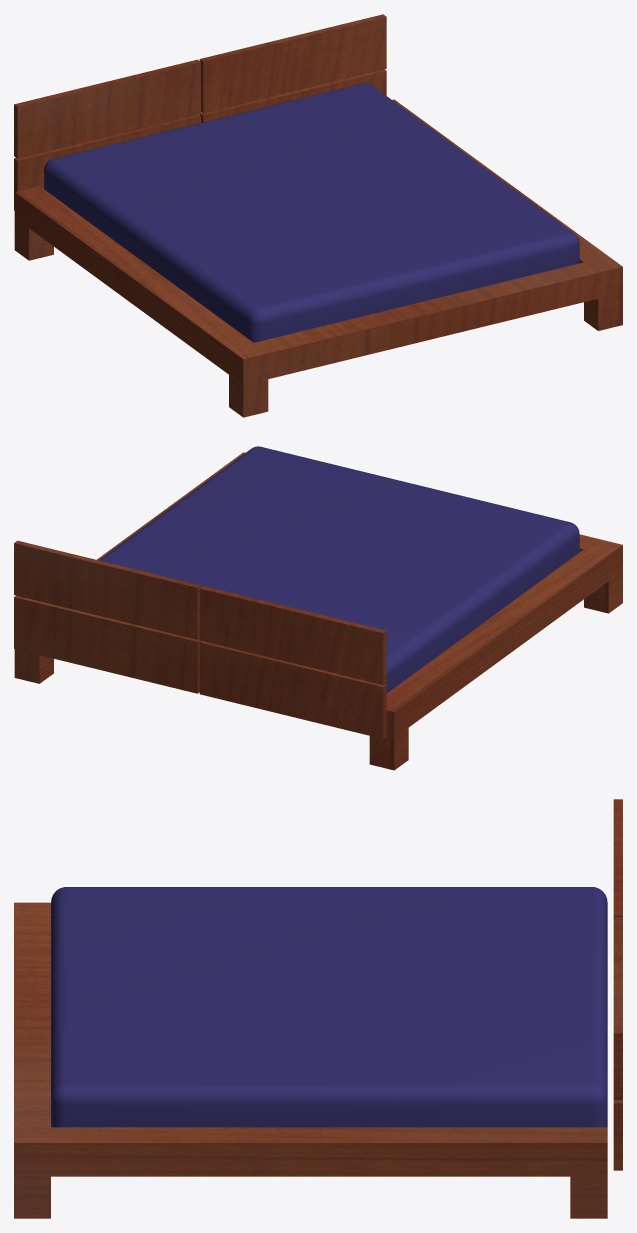
File: lettoCiliegio.obj
3 views of the same model, one above another, from view 1: azimuth 30°, elevation 25°; view 2: azimuth 150°, elevation 25°; view 3: azimuth 270°, elevation 25° (orthographic). The views are drawn at different scales.
Parts seen in each view (by area): view 1: ChamferBox01_1, Line03_7, Box31_5, Box32_9, Box30_4, Box29_10, Box24_3, Box23_6, Box35_2; view 2: ChamferBox01_1, Line03_7, Box31_5, Box32_9, Box30_4, Box29_10, Box35_2, Box36_8, Box24_3; view 3: ChamferBox01_1, Line03_7, Box32_9, Box36_8, Box23_6, Box31_5, Box29_10.
Part boxes in pixels (x1,y1,x2,y2): ChamferBox01_1: (44,83,579,342); Line03_7: (14,99,622,385); Box31_5: (14,59,200,158); Box32_9: (199,14,386,113); Box30_4: (14,114,200,210); Box29_10: (199,69,386,122); Box24_3: (229,375,268,417); Box23_6: (584,293,622,330); Box35_2: (14,218,53,260); ChamferBox01_1: (99,446,579,693); Line03_7: (97,452,622,737); Box31_5: (199,586,386,684); Box32_9: (14,540,200,639); Box30_4: (199,641,386,738); Box29_10: (14,595,200,693); Box35_2: (369,728,408,770); Box36_8: (14,649,53,683); Box24_3: (584,571,622,613); ChamferBox01_1: (51,887,607,1127); Line03_7: (14,902,607,1176); Box32_9: (613,917,622,1100); Box36_8: (570,1176,607,1218); Box23_6: (14,1176,50,1218); Box31_5: (613,799,622,916); Box29_10: (613,1100,622,1170).
Size of the model in its own units: 184 by 65 by 197.
